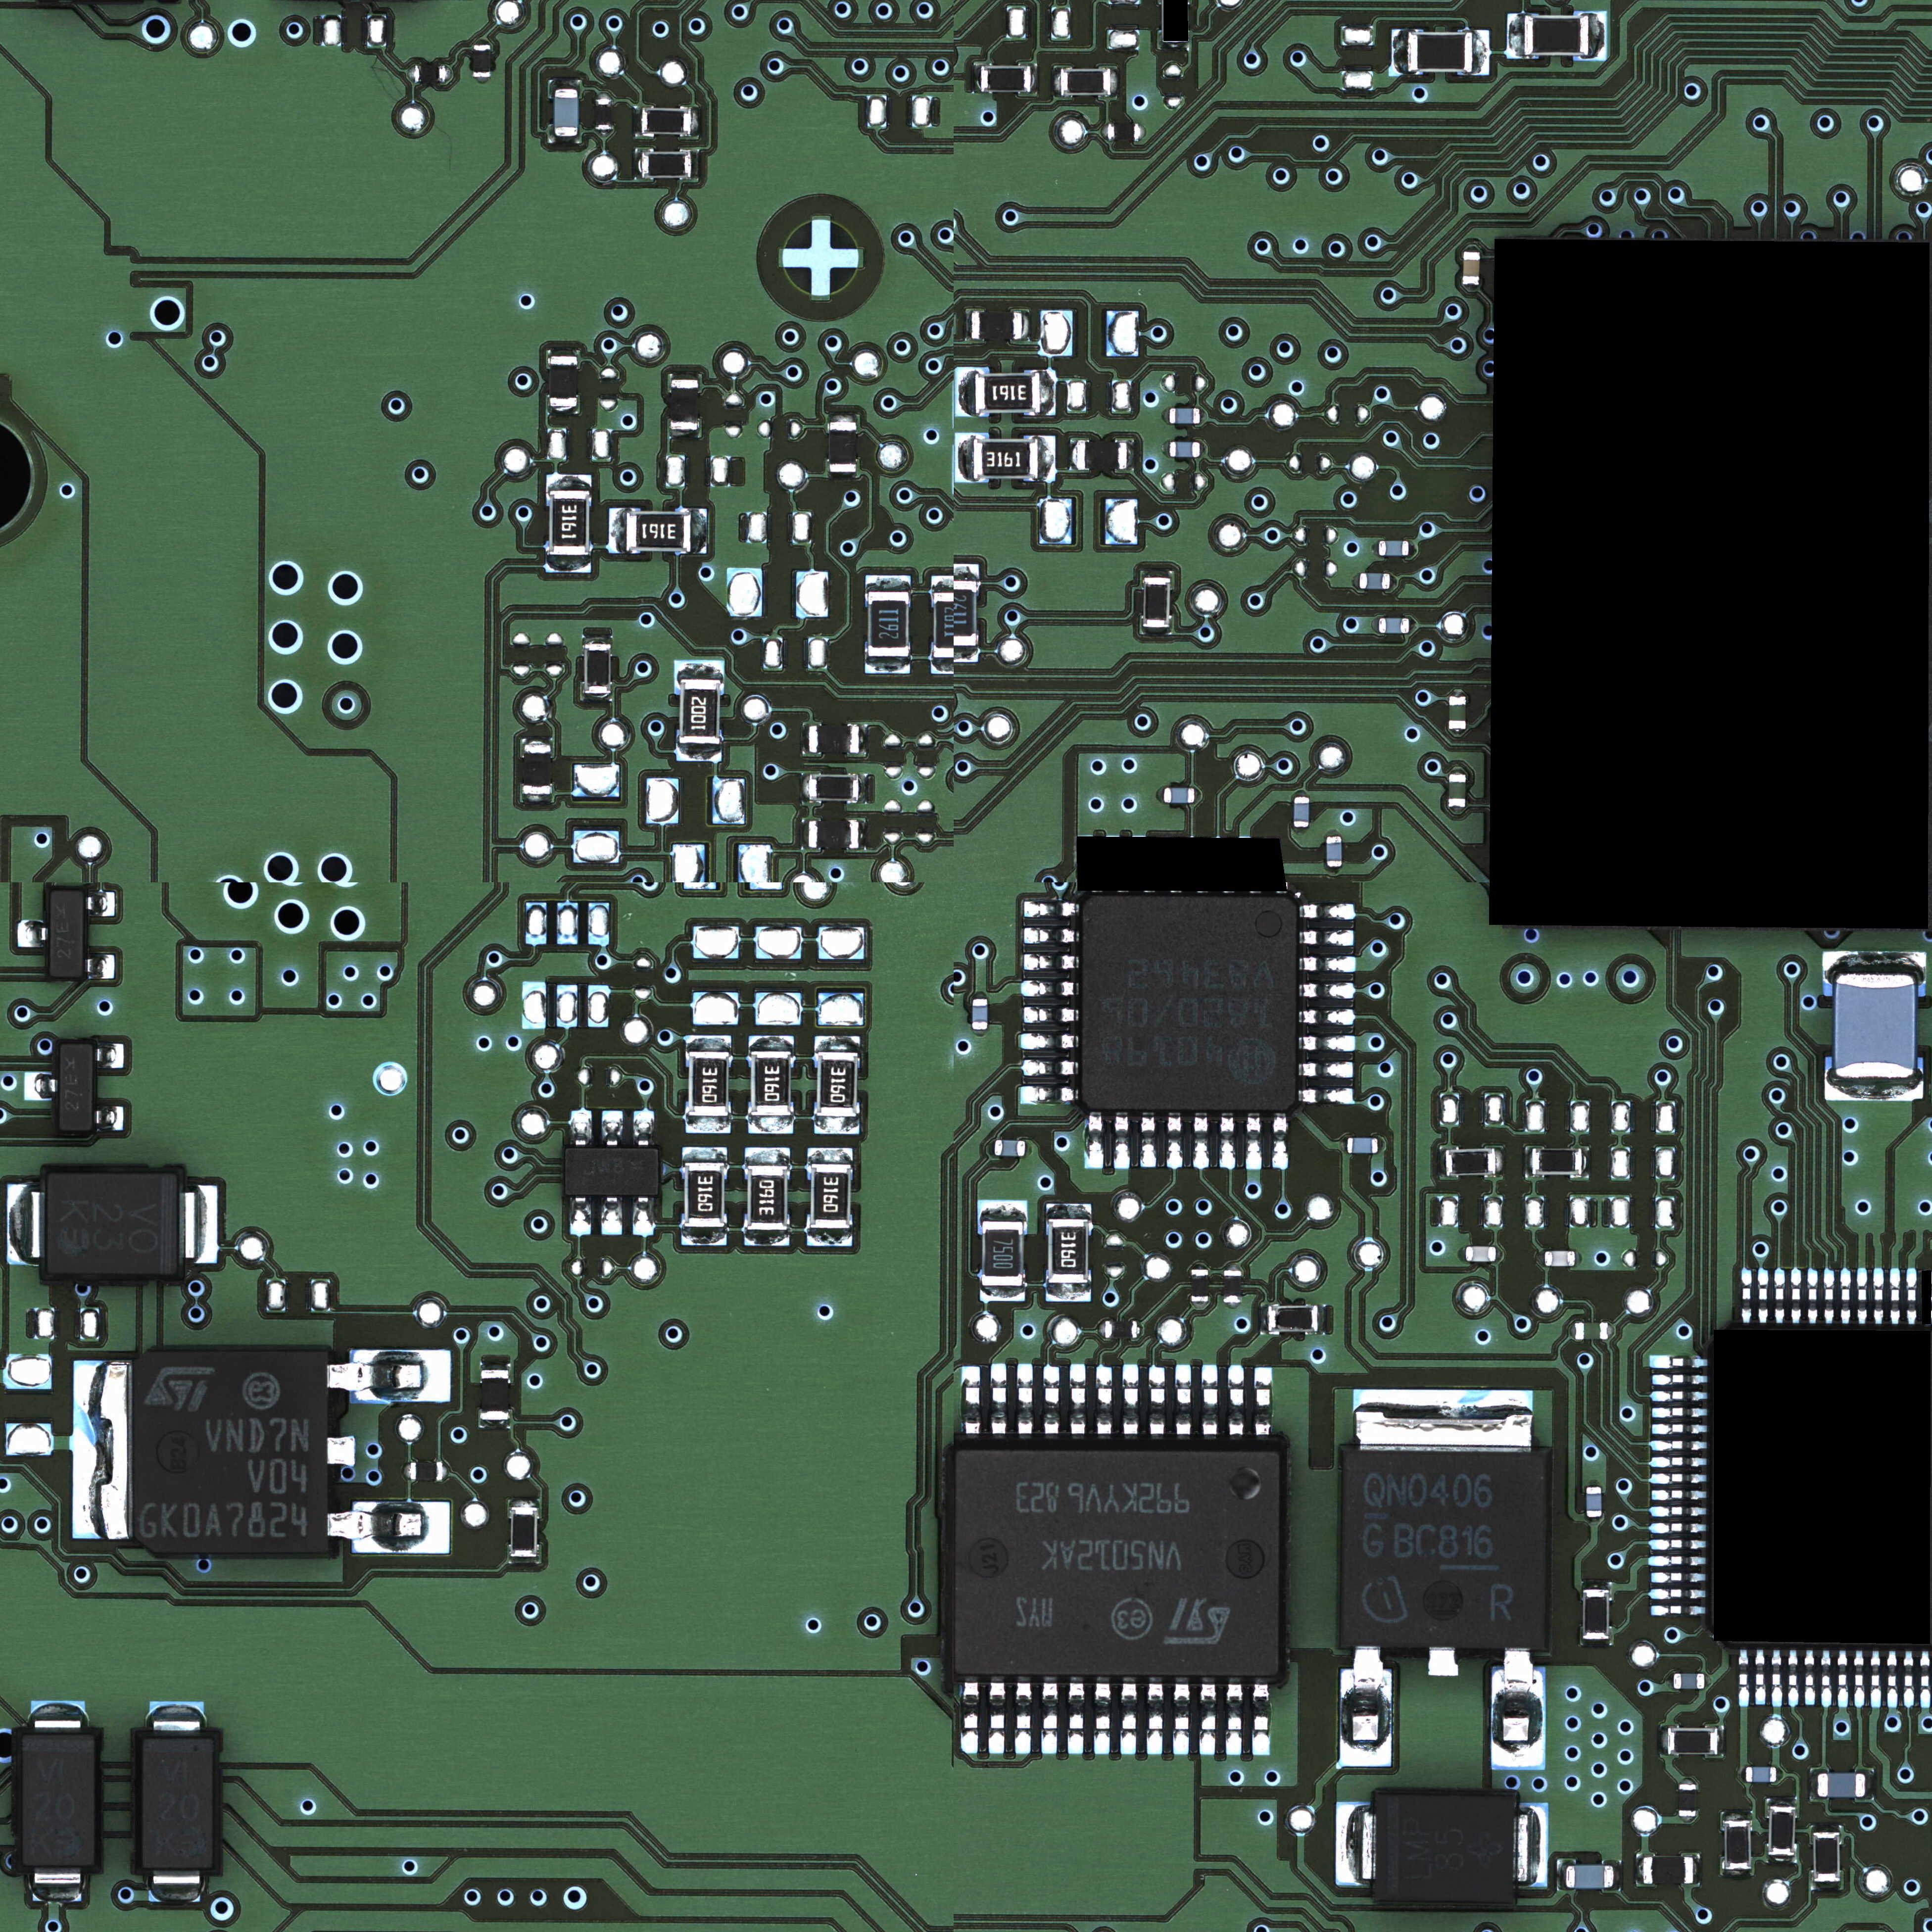Package: (954, 1449, 1279, 1677), (1079, 893, 1297, 1113), (1341, 1451, 1546, 1647), (133, 1350, 327, 1553), (1376, 1794, 1514, 1902), (46, 1171, 179, 1276), (19, 1734, 96, 1868), (140, 1737, 214, 1870), (1835, 973, 1916, 1077), (564, 1146, 660, 1196), (58, 1042, 94, 1132), (50, 888, 83, 978), (548, 490, 591, 556), (1408, 32, 1474, 73), (688, 1051, 729, 1116), (975, 373, 1040, 414), (973, 439, 1039, 479), (982, 1221, 1023, 1286), (685, 1162, 725, 1228), (626, 511, 690, 552), (679, 679, 720, 743), (810, 1164, 851, 1228), (1047, 1219, 1088, 1283), (817, 1053, 858, 1116), (1523, 16, 1589, 55), (752, 1051, 791, 1116), (869, 593, 908, 656), (748, 1166, 787, 1230), (1076, 441, 1127, 469), (671, 380, 699, 430), (548, 357, 577, 407), (1644, 1856, 1693, 1884), (809, 725, 858, 754), (524, 745, 552, 794), (971, 311, 1021, 340), (830, 421, 856, 472), (1062, 69, 1111, 96), (809, 821, 858, 847), (1668, 1729, 1718, 1755), (481, 1369, 508, 1419), (1269, 1306, 1318, 1332), (809, 775, 858, 801), (642, 108, 690, 134), (980, 67, 1030, 92), (1813, 1833, 1838, 1882), (1532, 1150, 1582, 1175), (1445, 1150, 1495, 1175), (1725, 1821, 1750, 1870), (1145, 579, 1169, 628), (511, 1507, 536, 1557), (586, 644, 610, 694), (1583, 1591, 1608, 1640), (554, 88, 579, 136), (642, 152, 690, 177), (1817, 1773, 1865, 1798), (1769, 1806, 1794, 1854), (1566, 1865, 1614, 1888), (410, 1461, 442, 1481), (1575, 1322, 1608, 1339), (1449, 773, 1467, 807), (472, 44, 490, 78), (1449, 695, 1467, 729), (1106, 1322, 1138, 1339), (1224, 1270, 1242, 1302), (1679, 1785, 1697, 1817), (414, 65, 446, 83), (1463, 251, 1479, 285), (1191, 1270, 1208, 1300), (1346, 1138, 1378, 1154), (1108, 124, 1139, 140), (1378, 617, 1410, 633), (1293, 796, 1309, 826), (1164, 787, 1194, 803), (1361, 573, 1391, 589), (994, 1139, 1024, 1155), (1545, 1251, 1575, 1267), (596, 99, 612, 129), (1467, 1246, 1497, 1261), (1674, 1674, 1706, 1688), (973, 998, 987, 1030), (1169, 442, 1200, 456), (1378, 541, 1408, 556), (1327, 837, 1341, 867), (1169, 409, 1200, 423), (1587, 1486, 1601, 1516), (1746, 1767, 1776, 1782)
Solder: (1353, 1389, 1532, 1451), (73, 1361, 133, 1541), (1490, 1647, 1545, 1769), (327, 1350, 451, 1403), (1339, 1649, 1392, 1767), (329, 1502, 449, 1553), (1336, 1803, 1376, 1884), (7, 1184, 44, 1265), (180, 1185, 218, 1263), (1514, 1803, 1548, 1886), (1822, 952, 1927, 973), (1824, 1079, 1923, 1100), (149, 1702, 203, 1737), (30, 1700, 85, 1734), (32, 1868, 83, 1902), (149, 1870, 202, 1902), (961, 1366, 980, 1435), (1201, 1364, 1219, 1437), (1253, 1684, 1270, 1757), (961, 1683, 978, 1753), (1254, 1368, 1272, 1437), (1019, 1085, 1079, 1104), (991, 1362, 1007, 1435), (1069, 1683, 1085, 1755), (1120, 1683, 1136, 1755), (1093, 1683, 1109, 1755), (1175, 1364, 1191, 1437), (1146, 1683, 1162, 1755), (1042, 1683, 1058, 1755), (1085, 1113, 1104, 1171), (1044, 1364, 1060, 1435), (1097, 1364, 1113, 1435), (1173, 1684, 1189, 1755), (1226, 1684, 1242, 1755), (1016, 1683, 1031, 1753), (989, 1683, 1005, 1753), (1200, 1684, 1215, 1755), (1070, 1364, 1086, 1435), (1123, 1364, 1139, 1435), (1017, 1364, 1033, 1435), (1021, 1058, 1077, 1077), (1021, 1031, 1077, 1051), (1148, 1366, 1164, 1435), (1228, 1366, 1244, 1435), (954, 366, 975, 418), (1299, 955, 1357, 973), (1113, 1113, 1131, 1171), (978, 1200, 1026, 1221), (1299, 982, 1355, 1000), (1299, 1035, 1355, 1053), (1299, 929, 1355, 947), (1299, 1008, 1355, 1026), (1021, 980, 1077, 998), (1166, 1113, 1184, 1169), (954, 432, 973, 483), (1023, 901, 1077, 918), (1023, 1007, 1077, 1024), (1023, 954, 1077, 971), (1299, 1062, 1353, 1079), (1300, 902, 1355, 920), (1139, 1115, 1157, 1169), (327, 1435, 356, 1468), (1024, 927, 1077, 945), (676, 660, 724, 679), (1272, 1113, 1288, 1171), (1246, 1115, 1261, 1171), (1192, 1113, 1208, 1169), (1219, 1115, 1235, 1171), (745, 1146, 791, 1166), (1299, 1088, 1353, 1104), (570, 1196, 591, 1237), (570, 1109, 593, 1146), (25, 1072, 55, 1100), (18, 920, 48, 948), (1428, 1649, 1458, 1677), (1589, 12, 1606, 60), (1046, 1284, 1092, 1302), (681, 1228, 727, 1246), (1039, 435, 1056, 481), (676, 745, 722, 763), (865, 575, 911, 593), (814, 1116, 860, 1134), (685, 1116, 731, 1134), (609, 508, 626, 554), (865, 656, 911, 674), (545, 556, 591, 573), (602, 1198, 623, 1235), (633, 1109, 655, 1146), (748, 1116, 793, 1134), (816, 1035, 860, 1053), (685, 1035, 732, 1051), (633, 1196, 653, 1235), (602, 1111, 623, 1146), (85, 954, 115, 978), (980, 1286, 1026, 1302), (1046, 1203, 1092, 1219), (1391, 28, 1407, 74), (692, 508, 708, 554), (743, 1230, 789, 1246), (807, 1230, 853, 1246), (748, 1035, 794, 1051), (807, 1148, 853, 1164), (1040, 370, 1056, 416), (1649, 1555, 1707, 1568), (1651, 1355, 1709, 1368), (1474, 30, 1490, 74), (547, 474, 591, 490), (1507, 14, 1523, 58), (683, 1146, 727, 1162), (96, 1106, 124, 1131), (96, 1044, 124, 1069), (87, 892, 115, 916), (1886, 1651, 1898, 1707), (1787, 1649, 1799, 1706), (1757, 1267, 1769, 1323), (1821, 1649, 1831, 1707), (1805, 1649, 1815, 1707), (1755, 1649, 1766, 1707), (1739, 1649, 1750, 1707), (1890, 1267, 1900, 1325), (1905, 1267, 1916, 1325), (1649, 1589, 1707, 1599), (1649, 1573, 1707, 1583), (1649, 1506, 1707, 1516), (1649, 1523, 1707, 1534), (1649, 1539, 1707, 1550), (1651, 1375, 1709, 1385), (1651, 1391, 1709, 1401), (1651, 1424, 1709, 1435), (1649, 1440, 1707, 1451), (1649, 1456, 1707, 1467), (1649, 1474, 1707, 1484), (1920, 1651, 1930, 1707), (1651, 1605, 1707, 1615), (1904, 1651, 1914, 1707), (1870, 1651, 1881, 1707), (1854, 1649, 1865, 1706), (1836, 1649, 1847, 1706), (1771, 1649, 1782, 1706), (1741, 1267, 1752, 1323), (1775, 1267, 1785, 1323), (1790, 1267, 1801, 1323), (1808, 1267, 1819, 1323), (1824, 1267, 1835, 1323), (1840, 1267, 1851, 1323), (1858, 1269, 1868, 1325), (1874, 1269, 1884, 1325), (1649, 1490, 1706, 1500), (1651, 1408, 1707, 1419), (1051, 65, 1062, 97), (1658, 1725, 1668, 1755), (508, 1499, 540, 1507), (690, 106, 699, 138), (548, 80, 580, 88), (1141, 570, 1173, 579), (633, 106, 642, 138), (633, 147, 642, 179), (1557, 1859, 1566, 1890), (1582, 1580, 1612, 1589), (1865, 1769, 1874, 1799), (1721, 1812, 1752, 1821), (522, 794, 552, 803), (580, 694, 610, 702), (479, 1419, 510, 1428), (1812, 1882, 1842, 1891), (858, 773, 867, 803), (1767, 1798, 1798, 1806), (1495, 1146, 1504, 1177), (479, 1362, 510, 1371), (858, 724, 867, 754), (1260, 1304, 1269, 1334), (548, 134, 579, 143), (1812, 1824, 1840, 1833), (584, 635, 612, 644), (971, 64, 980, 92), (1161, 42, 1189, 51), (692, 149, 699, 180), (1139, 628, 1171, 635), (547, 407, 579, 414), (508, 1557, 540, 1564), (669, 430, 701, 437), (1721, 1870, 1753, 1877), (1614, 1859, 1621, 1891), (1635, 1854, 1642, 1886), (1810, 1767, 1817, 1799), (522, 738, 552, 745), (1693, 1854, 1700, 1884), (828, 414, 858, 421), (1525, 1146, 1532, 1177), (1127, 441, 1134, 471), (801, 819, 809, 849), (858, 819, 865, 849), (803, 724, 810, 754), (1718, 1725, 1725, 1755), (1030, 64, 1037, 94), (964, 310, 971, 340), (548, 349, 577, 356), (1767, 1856, 1796, 1863), (1438, 1148, 1445, 1177), (1582, 1148, 1589, 1177), (1318, 1306, 1325, 1334), (828, 472, 856, 479), (1023, 311, 1030, 340), (1111, 69, 1118, 96), (801, 775, 809, 800), (1580, 1640, 1612, 1645), (669, 373, 699, 379), (1070, 441, 1076, 471), (1191, 1300, 1208, 1309), (402, 1463, 410, 1479), (1575, 1251, 1583, 1267), (1458, 1246, 1467, 1261), (1155, 787, 1164, 803), (1449, 688, 1467, 695), (1463, 244, 1481, 251), (1679, 1778, 1697, 1785), (1224, 1302, 1242, 1309), (1224, 1263, 1242, 1270), (1191, 1263, 1208, 1270), (1449, 807, 1467, 814), (594, 92, 612, 99), (1463, 285, 1481, 292), (596, 129, 612, 136), (1408, 541, 1415, 557), (1391, 573, 1398, 589), (1608, 1323, 1615, 1339), (1378, 1138, 1385, 1154), (1339, 1138, 1346, 1154), (1138, 1322, 1145, 1338), (1099, 1322, 1106, 1338), (1162, 441, 1169, 456), (1162, 409, 1169, 425), (1200, 409, 1207, 425), (1352, 573, 1359, 589), (1410, 617, 1417, 633), (1371, 617, 1378, 633), (1449, 729, 1465, 736), (1139, 124, 1146, 140), (1100, 124, 1108, 140), (446, 65, 453, 81), (407, 65, 414, 81), (1194, 787, 1201, 803), (1293, 826, 1309, 833), (1293, 789, 1309, 796), (1200, 442, 1207, 456), (1327, 867, 1341, 874), (1026, 1141, 1033, 1155), (987, 1141, 994, 1155), (973, 1030, 987, 1037), (973, 991, 987, 998), (1371, 541, 1378, 556), (1327, 830, 1341, 837), (444, 1463, 449, 1481), (1679, 1817, 1697, 1822), (1447, 768, 1465, 773), (472, 78, 490, 83), (474, 39, 492, 44), (1497, 1246, 1502, 1261), (1539, 1251, 1545, 1267), (1569, 1323, 1575, 1339), (1706, 1674, 1711, 1688), (1776, 1767, 1782, 1782), (1587, 1481, 1601, 1486), (1587, 1516, 1601, 1522), (1741, 1767, 1746, 1782), (1670, 1674, 1674, 1688)
